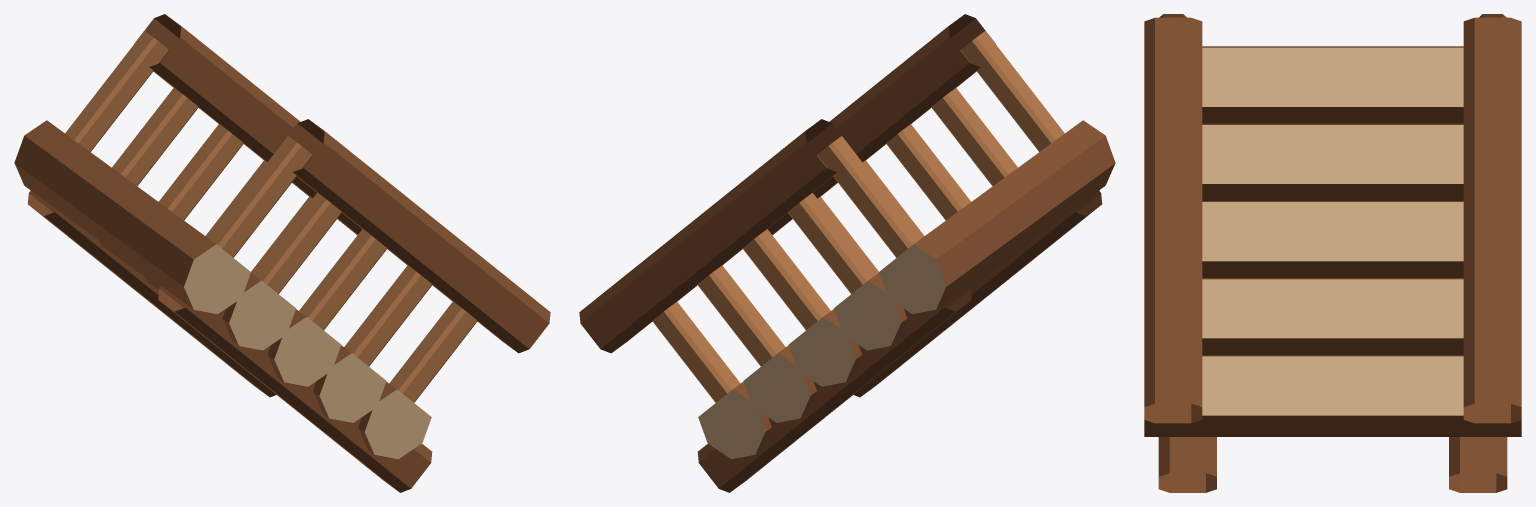
File: Track_Bridge_Incline_Sharp_Floating.obj
3 views of the same model, side by side, from view 1: azimuth 30°, elevation 25°; view 2: azimuth 150°, elevation 25°; view 3: azimuth 270°, elevation 25° (orthographic). The views are drawn at different scales.
Visible parts, largest first — view 1: Bridge_Rail_Support, Bridge_Rail, Log_Plank_Bark, Log_Plank_End, Bridge_Support_Beam; view 2: Bridge_Rail_Support, Bridge_Rail, Log_Plank_Bark, Log_Plank_End, Bridge_Support_Beam; view 3: Log_Plank_Top, Bridge_Rail, Log_Plank_Bark, Bridge_Support_Beam.
Boxes of the visible parts, x1,y1,x2,y2 form: Bridge_Rail_Support: [65, 31, 477, 402]; Bridge_Rail: [134, 14, 550, 353]; Log_Plank_Bark: [14, 120, 396, 453]; Log_Plank_End: [184, 244, 431, 459]; Bridge_Support_Beam: [27, 190, 432, 492]; Bridge_Rail_Support: [652, 31, 1064, 402]; Bridge_Rail: [579, 14, 995, 353]; Log_Plank_Bark: [733, 120, 1115, 453]; Log_Plank_End: [698, 244, 945, 459]; Bridge_Support_Beam: [697, 190, 1102, 492]; Log_Plank_Top: [1202, 47, 1463, 415]; Bridge_Rail: [1144, 17, 1521, 423]; Log_Plank_Bark: [1144, 46, 1521, 436]; Bridge_Support_Beam: [1158, 437, 1507, 492].
Bounding box in the file's own units: 1.64 × 1.64 × 1.3.
